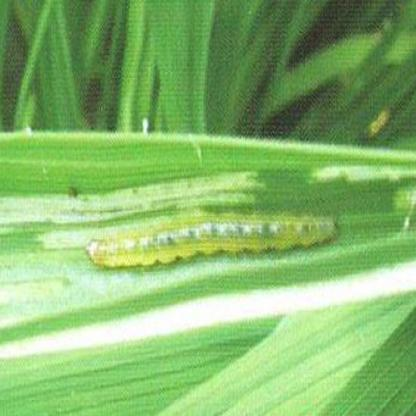leaf-folder: (107, 188, 346, 271)
